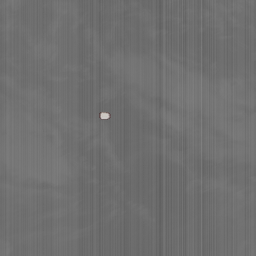Target: (97, 110, 113, 120)
